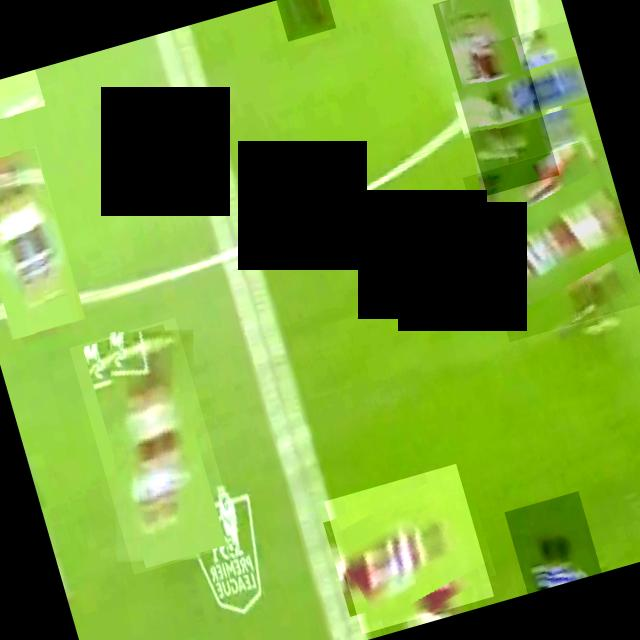soccer-player: (68, 317, 240, 574), (462, 137, 640, 341), (324, 464, 494, 634), (432, 0, 559, 194), (476, 21, 600, 162), (0, 145, 85, 339), (504, 491, 601, 594), (276, 0, 336, 41), (0, 69, 45, 121)
